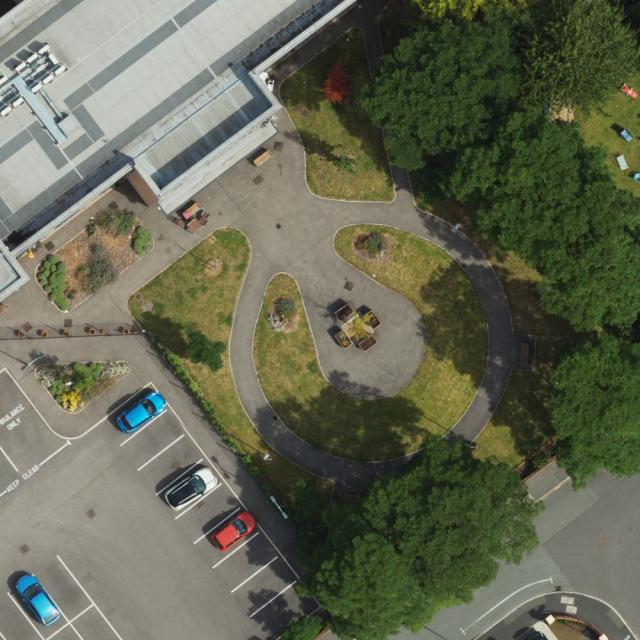roof: (0, 0, 354, 302)
